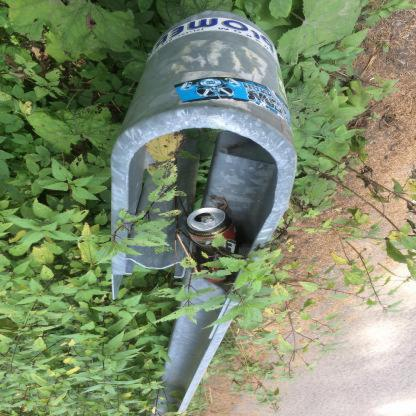Can: (185, 208, 240, 283)
Pop tab: (201, 216, 215, 223)
